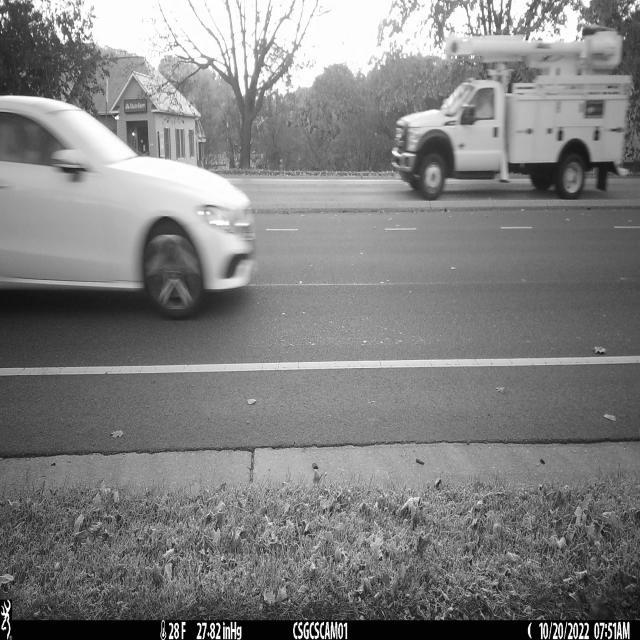Pickup- Utility: (391, 25, 634, 201)
